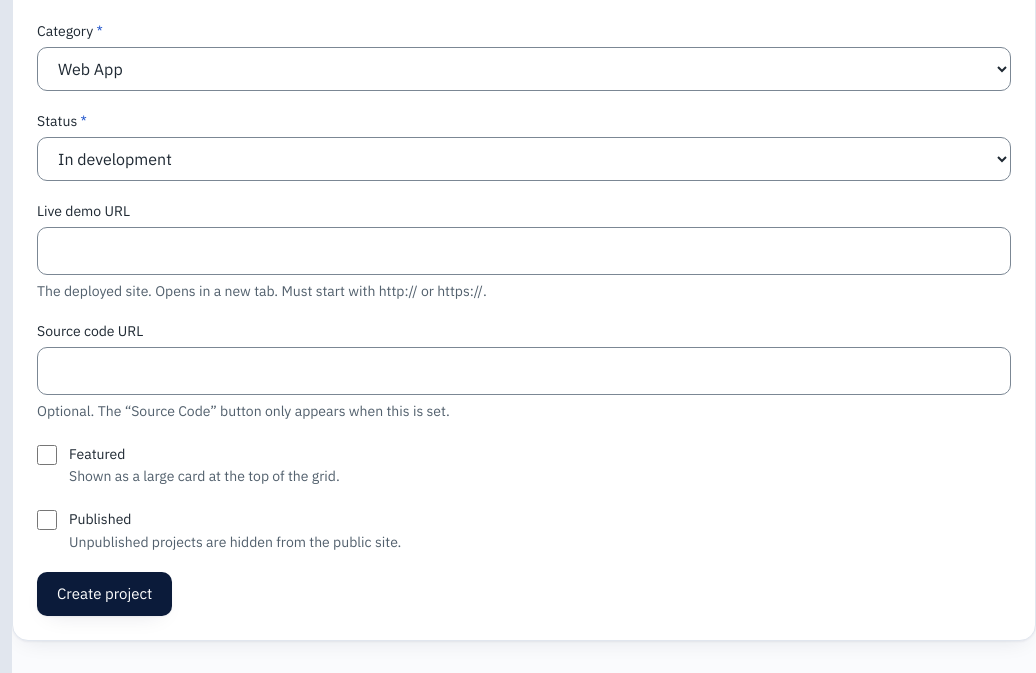
Test case: ProjectEditPage: new project › blocks an empty submit and focuses the first problem
(page scrolled)
Click the button "Create project" at [105, 594], box left=37, top=572, right=172, bottom=616
(page scrolled)
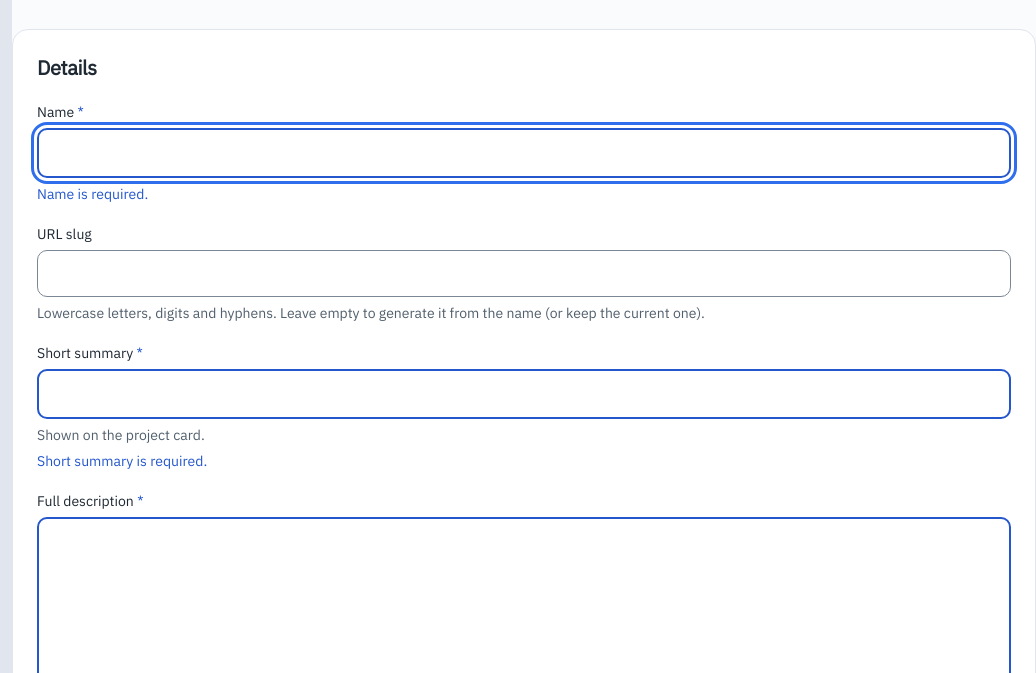
Expected: the text "Name is required." is shown, left=37, top=185, right=148, bottom=203
